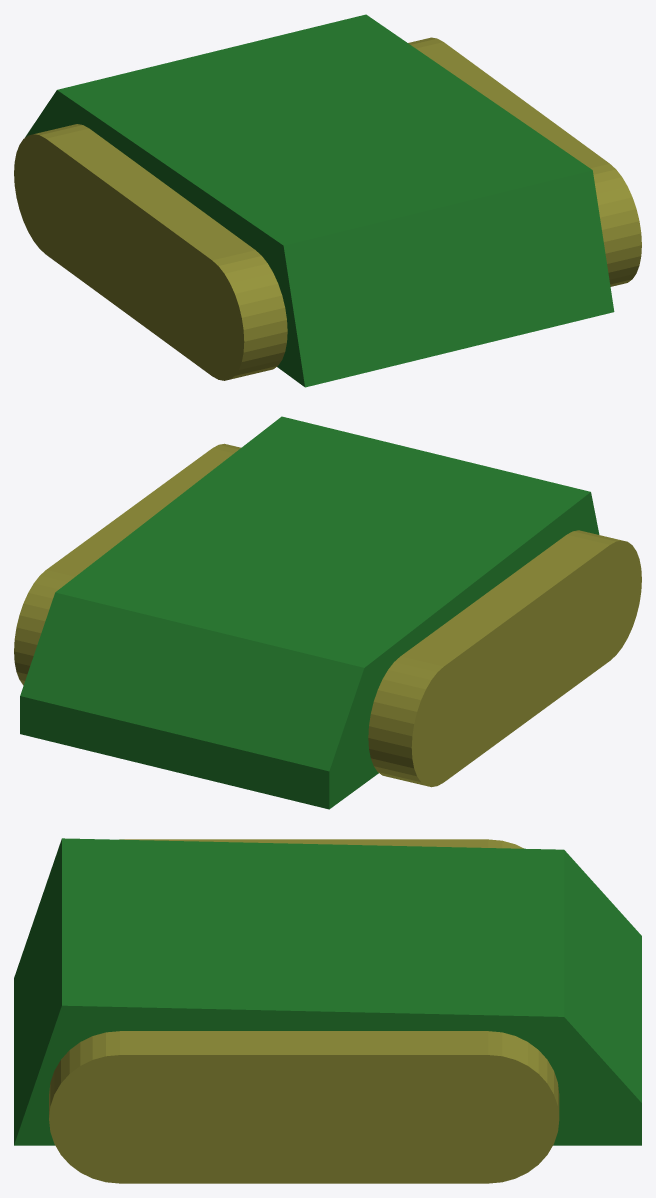
Rendered from War Tank Base.fbx.
3 views of the same model, one above another, from view 1: azimuth 30°, elevation 25°; view 2: azimuth 150°, elevation 25°; view 3: azimuth 270°, elevation 25° (orthographic). The views are drawn at different scales.
Visible parts, largest first — view 1: Cube; view 2: Cube; view 3: Cube.
Part boxes in pixels (x1=…): Cube: x1=14, y1=14, x2=641, y2=387; Cube: x1=14, y1=416, x2=641, y2=809; Cube: x1=14, y1=838, x2=641, y2=1183.
Bounding box in the file's own units: 718 × 240 × 886.
